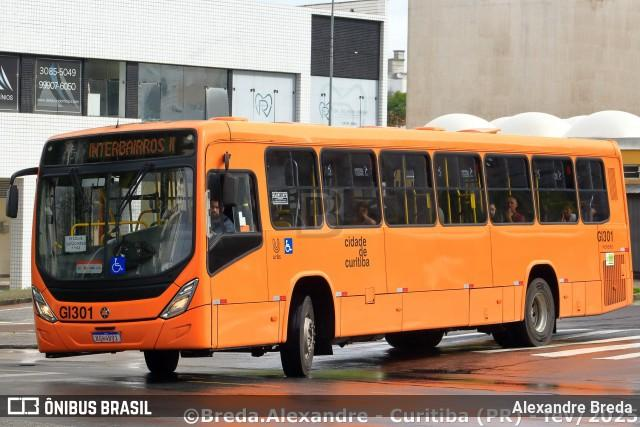INTERBAIRROS II: (87, 134, 178, 161)
